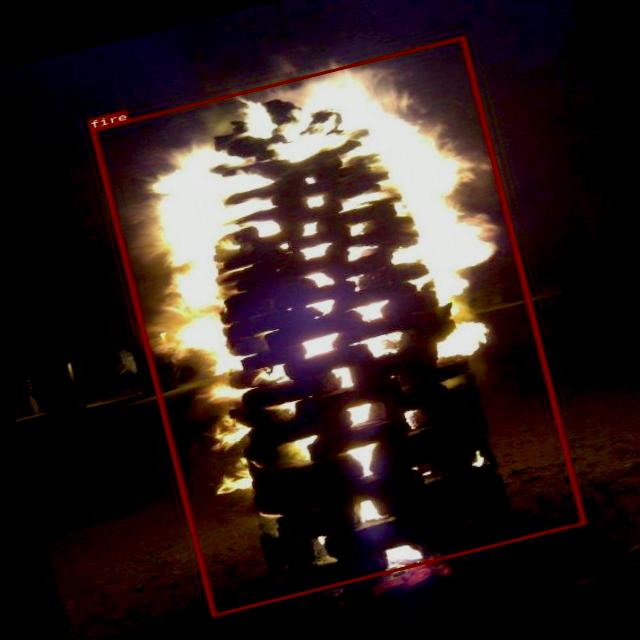fire: (89, 35, 584, 616)
